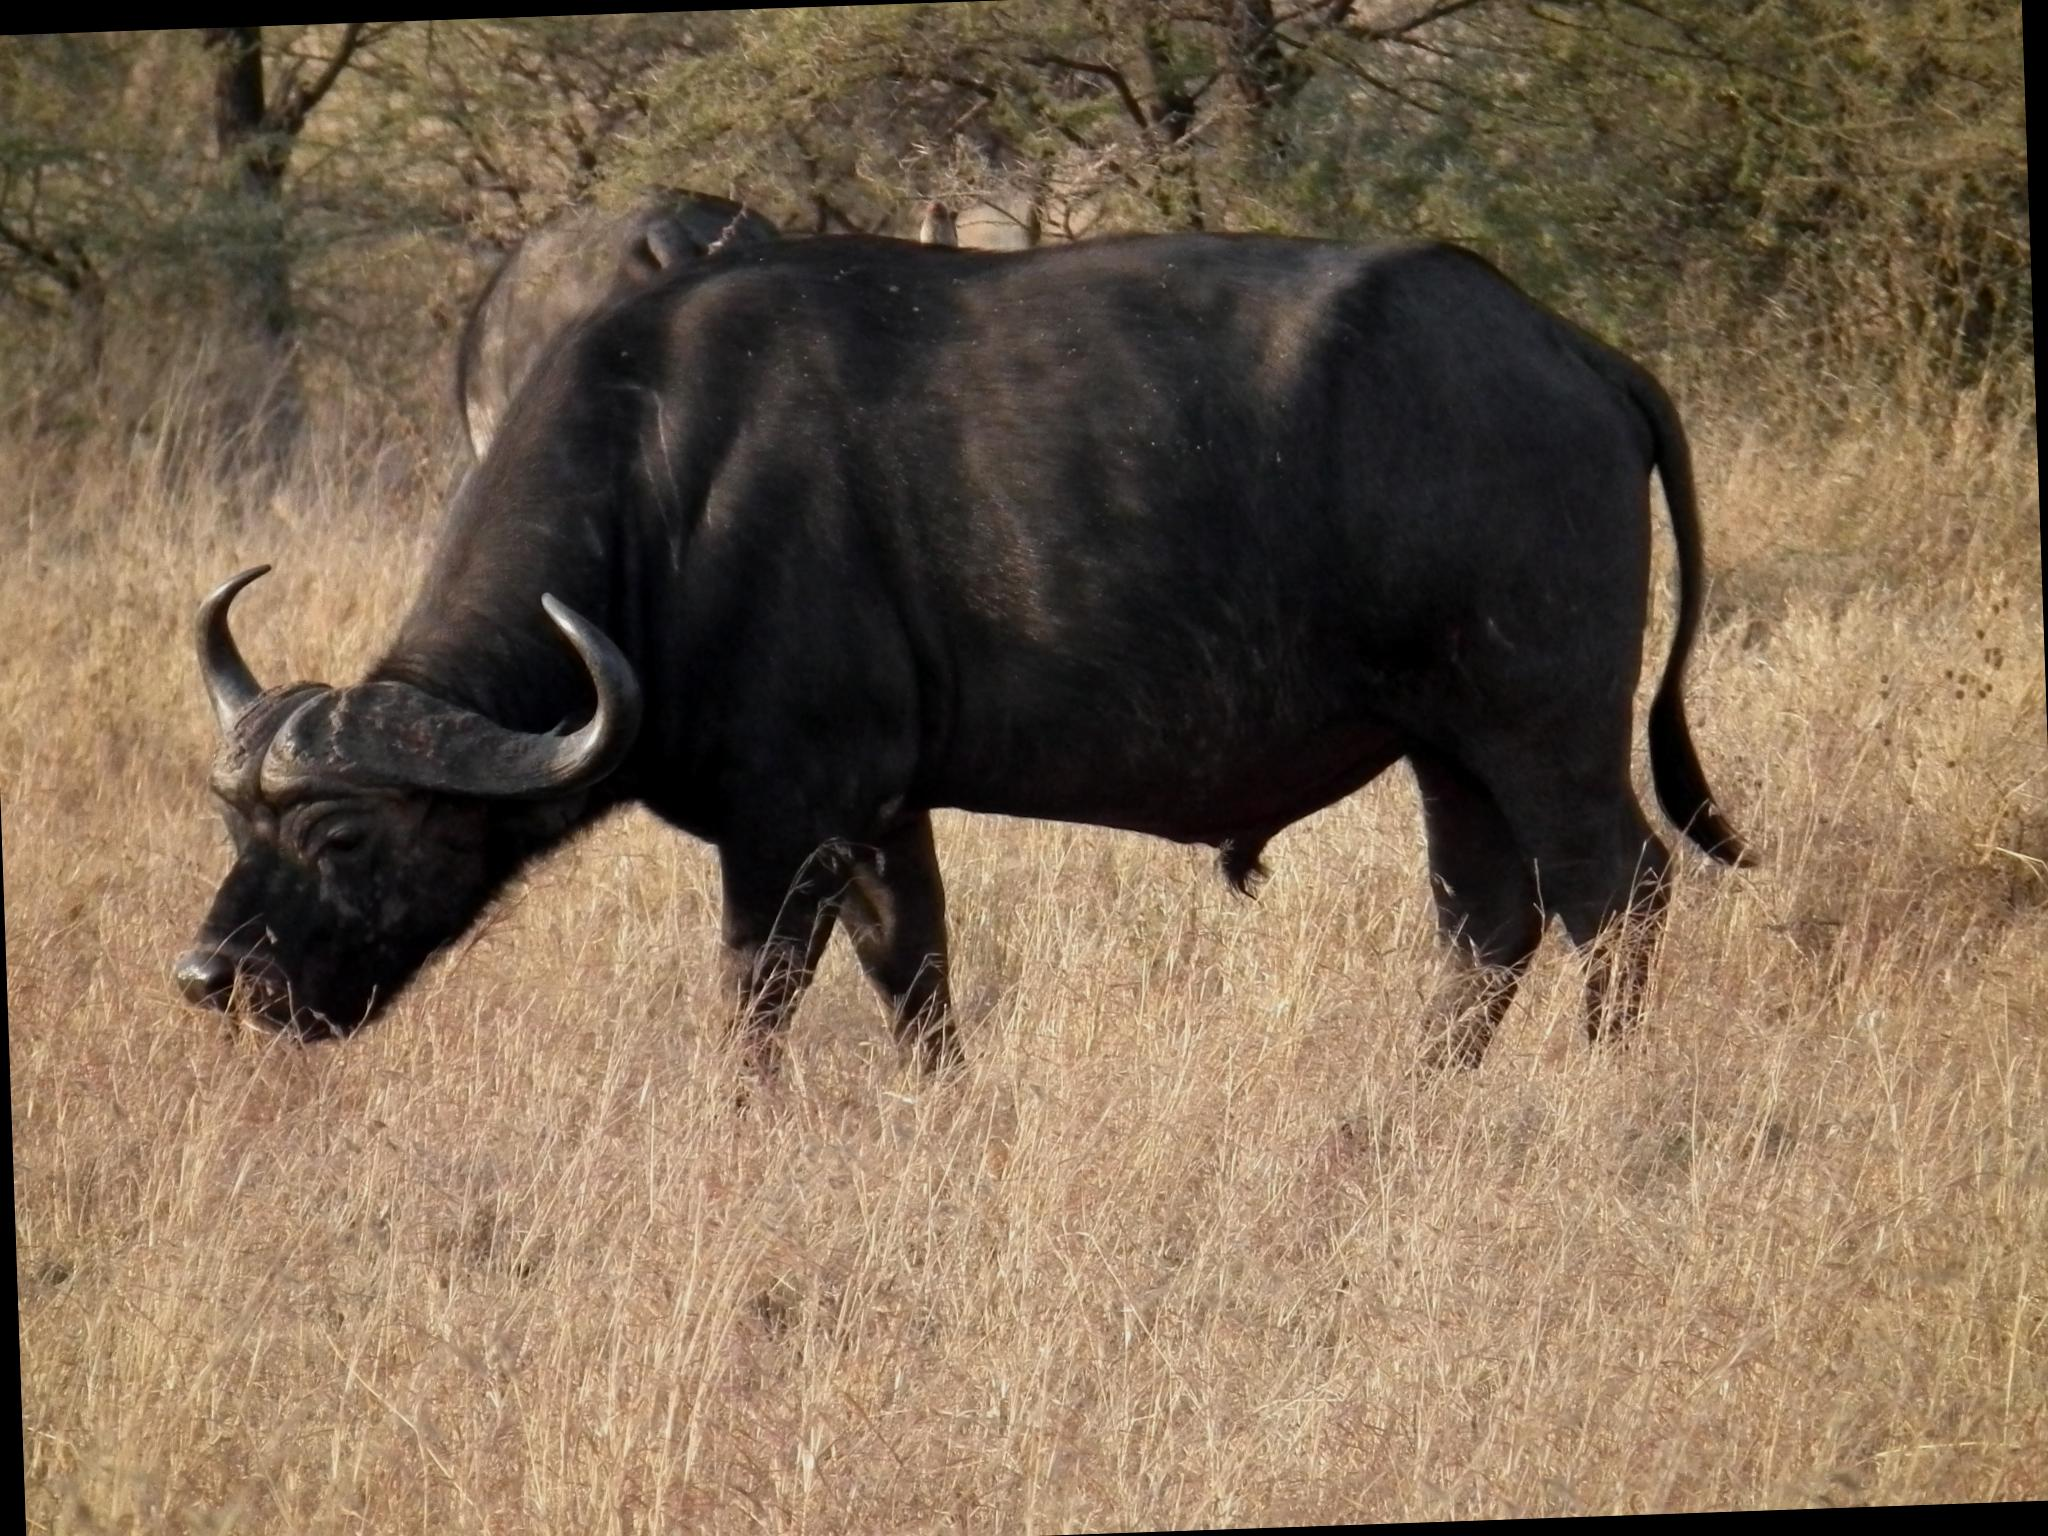Buffalo: (0, 44, 1925, 1317)
